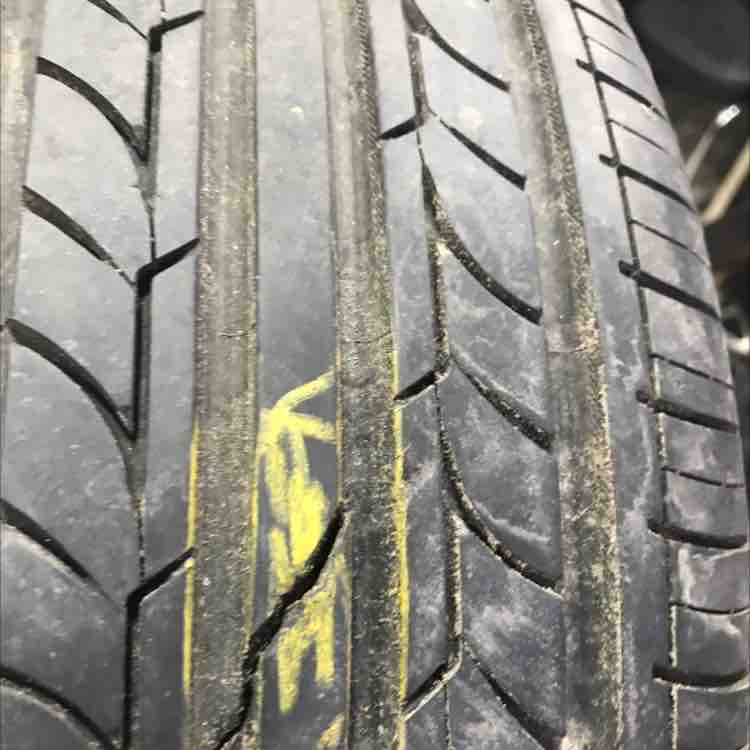tr: (202, 501, 350, 749)
